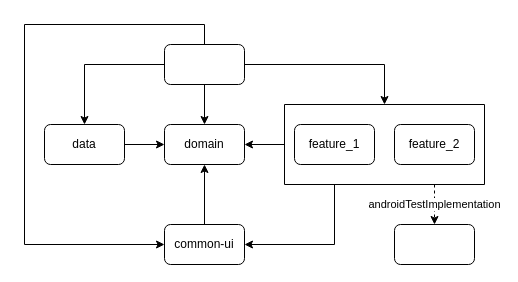
The diagram is 518 pixels wide and 282 high, and some of its shapes have lost their labels. The centre of each missing label's shape, as x and y in pixels:
"app" belongs at (204,64).
"common-tests-ui" belongs at (434,244).
